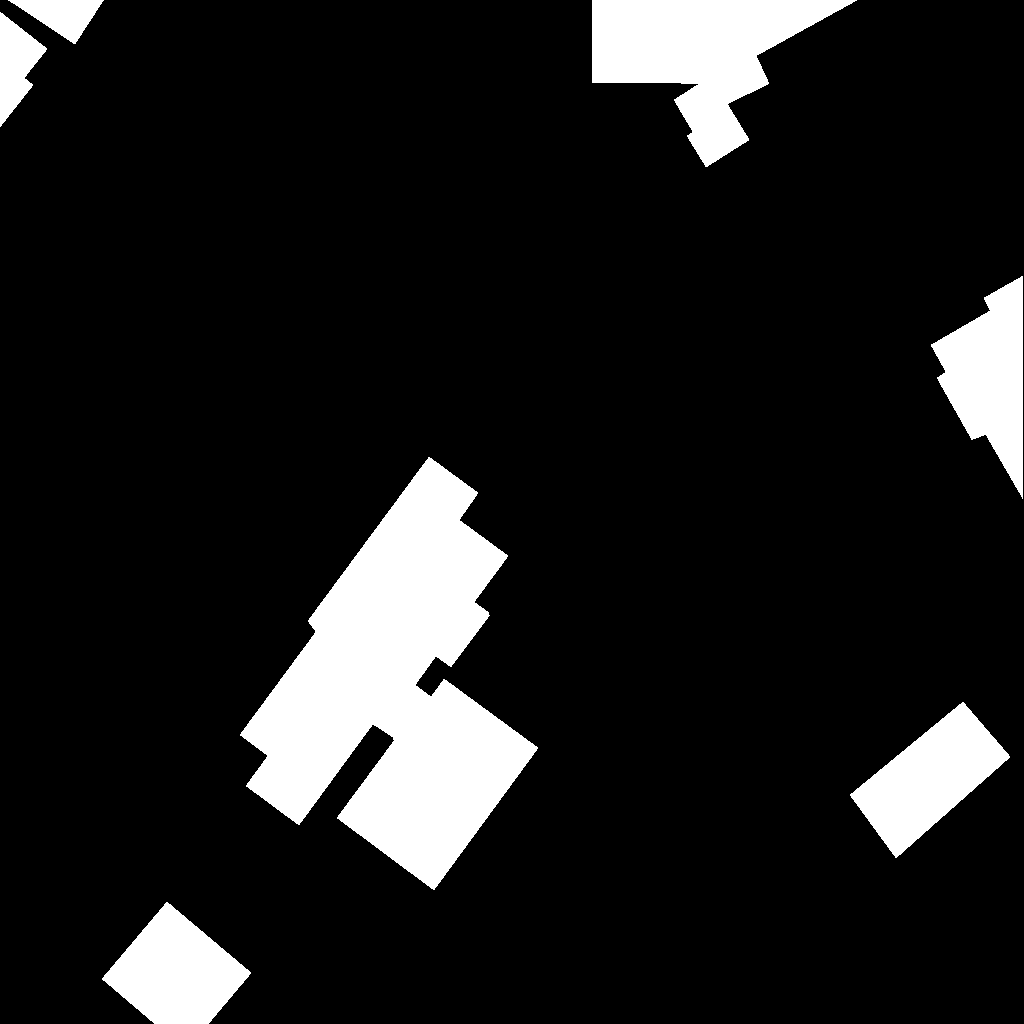building: (240, 457, 539, 891), (592, 0, 859, 168), (850, 702, 1011, 859), (931, 276, 1024, 500), (102, 902, 252, 1024), (0, 12, 48, 128), (8, 0, 105, 45)
